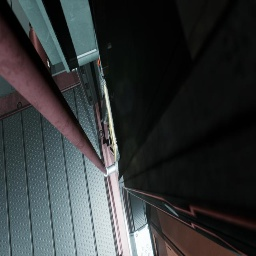EmergencyPhone ,: (96, 59, 123, 162)
FireAlarm ,: (96, 58, 100, 66)
NitrogenTank ,: (29, 22, 51, 75)
